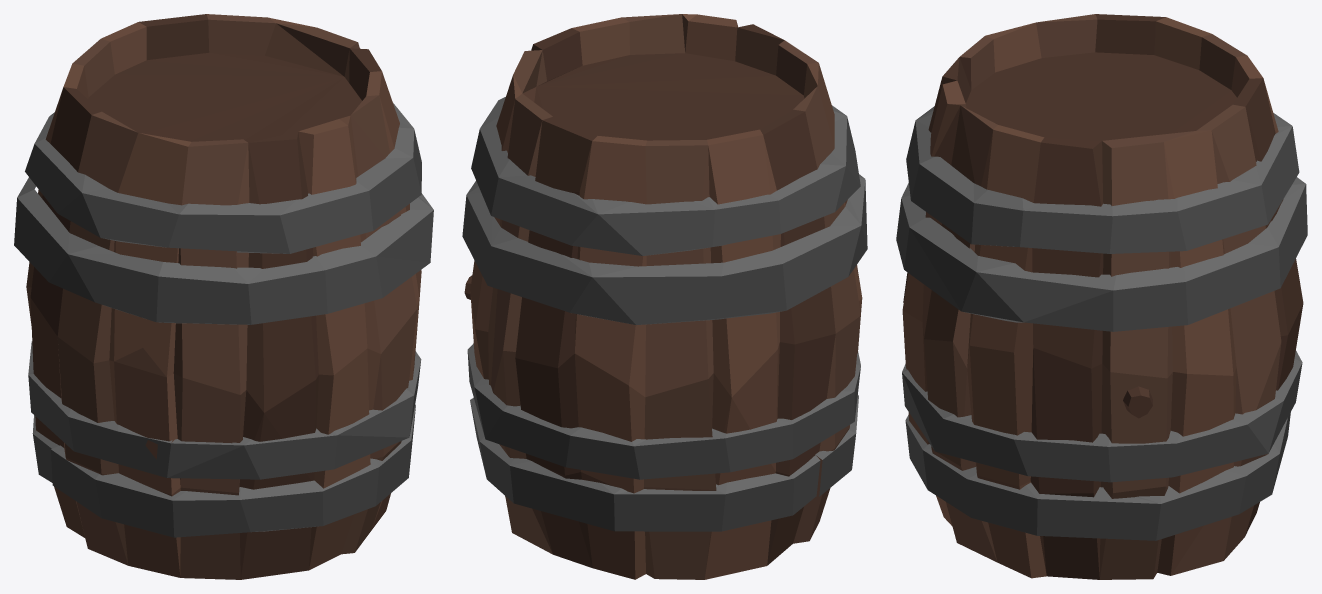
The model's file is Barrel_01.glb.
The picture shows the model from 3 angles, left to right: view 1: azimuth 30°, elevation 25°; view 2: azimuth 150°, elevation 25°; view 3: azimuth 270°, elevation 25°; orthographic projection.
Parts seen in each view (by area): view 1: Barrel_01; view 2: Barrel_01; view 3: Barrel_01.
Boxes of the visible parts, box(x1,y1,x2,y2) form: Barrel_01: box(14, 14, 433, 579); Barrel_01: box(462, 14, 867, 579); Barrel_01: box(896, 14, 1307, 579).
Size of what is drawn, in the model's own units: 0.963 by 1.12 by 0.9525.
Materials: 1 (1 with a texture image).
